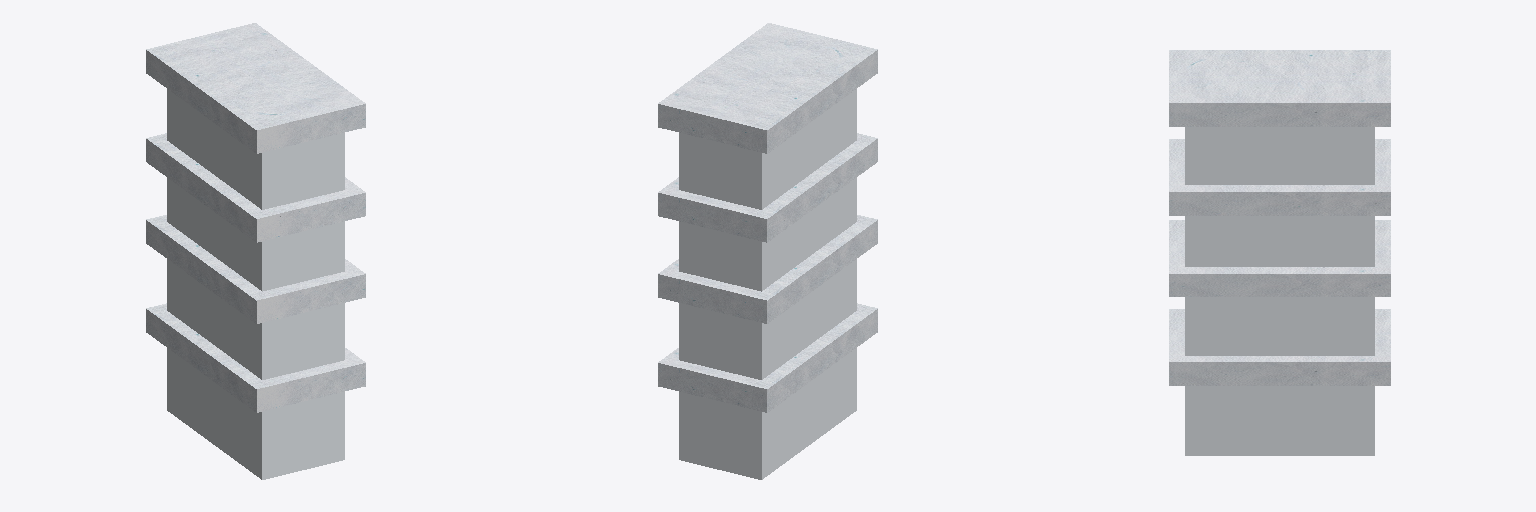
The picture shows the model from 3 angles: view 1: azimuth 30°, elevation 25°; view 2: azimuth 150°, elevation 25°; view 3: azimuth 270°, elevation 25°; orthographic projection.
Parts seen in each view (by area): view 1: 立方体; view 2: 立方体; view 3: 立方体.
Boxes of the visible parts, x1,y1,x2,y2 form: 立方体: [146, 23, 365, 479]; 立方体: [658, 23, 877, 479]; 立方体: [1169, 50, 1390, 455].
Size of the model in its own units: 2.66 by 8.33 by 4.66.
Materials: 1 (1 with a texture image).